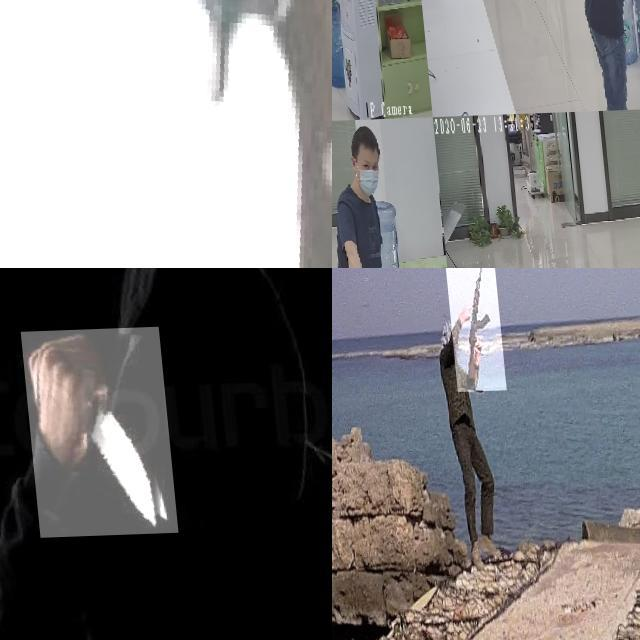-: (16, 329, 169, 539)
gun-knife-thesis - v11 Yolov5 augmented: (0, 0, 332, 268), (443, 268, 502, 393), (332, 0, 344, 21)
